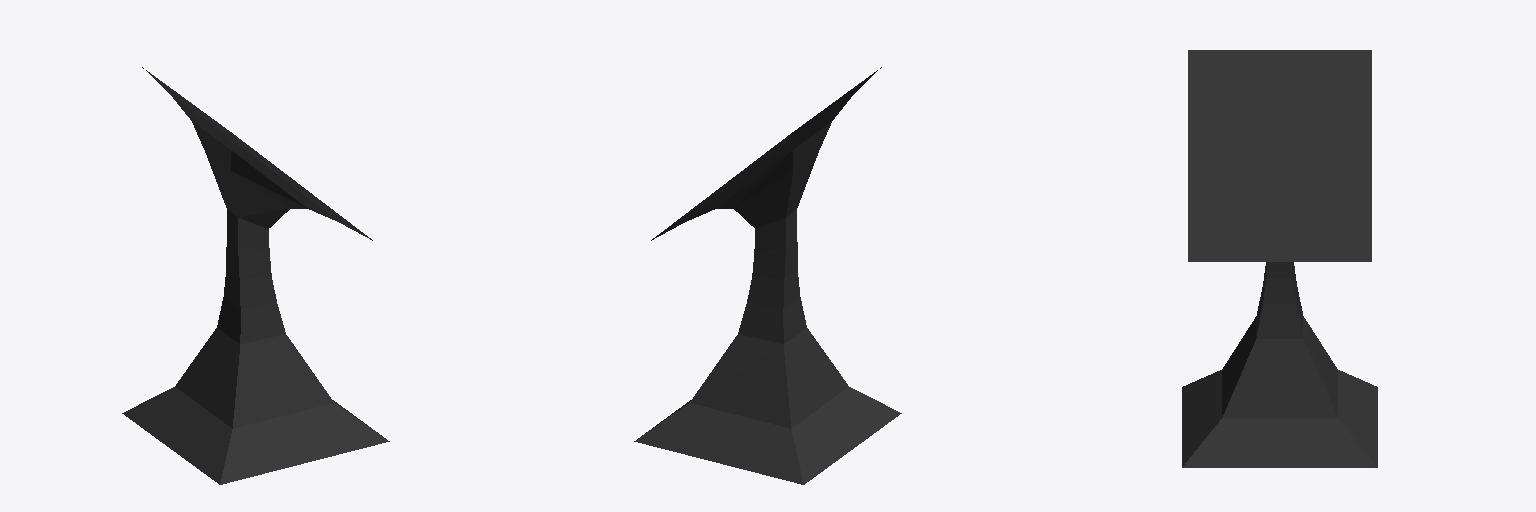
The model's file is ModernistLectern.obj.
3 views of the same model, side by side, from view 1: azimuth 30°, elevation 25°; view 2: azimuth 150°, elevation 25°; view 3: azimuth 270°, elevation 25° (orthographic).
Visible parts, largest first — view 1: Cube; view 2: Cube; view 3: Cube.
Boxes of the visible parts, x1,y1,x2,y2 form: Cube: [122, 67, 389, 484]; Cube: [634, 67, 901, 484]; Cube: [1182, 50, 1377, 467].
Size of the model in its own units: 1 by 1.94 by 1.